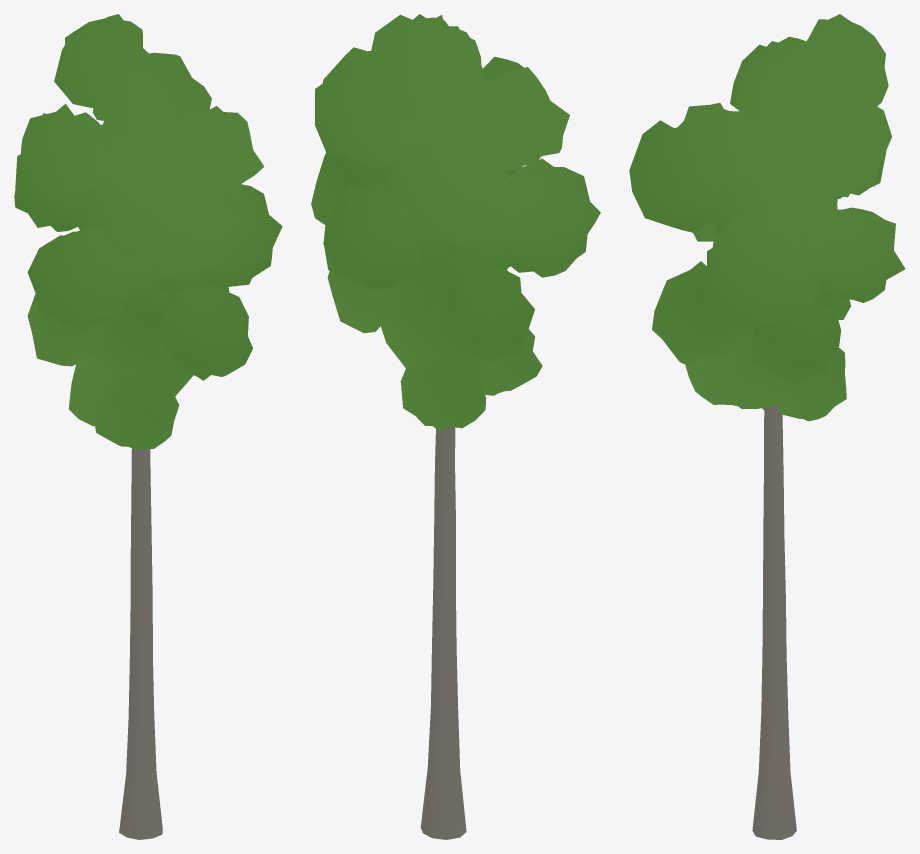
Rendered from Blender_TulipPoplar_2.glb.
3 renders of one model, left to right at view 1: azimuth 30°, elevation 25°; view 2: azimuth 150°, elevation 25°; view 3: azimuth 270°, elevation 25°, orthographic. The views are drawn at different scales.
Visible parts, largest first — view 1: Blender_TulipPoplar_2; view 2: Blender_TulipPoplar_2; view 3: Blender_TulipPoplar_2.
Part boxes in pixels (left/top/right/bottom): Blender_TulipPoplar_2: left=14, top=14, right=282, bottom=839; Blender_TulipPoplar_2: left=311, top=14, right=600, bottom=839; Blender_TulipPoplar_2: left=629, top=14, right=905, bottom=839.
Bounding box in the file's own units: 13.81 × 42.6 × 13.2.
